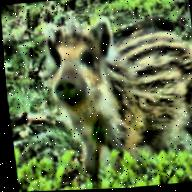boar: (36, 10, 192, 178)
